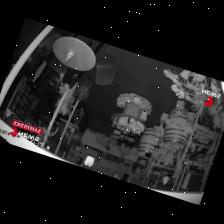person: (97, 133, 110, 150)
